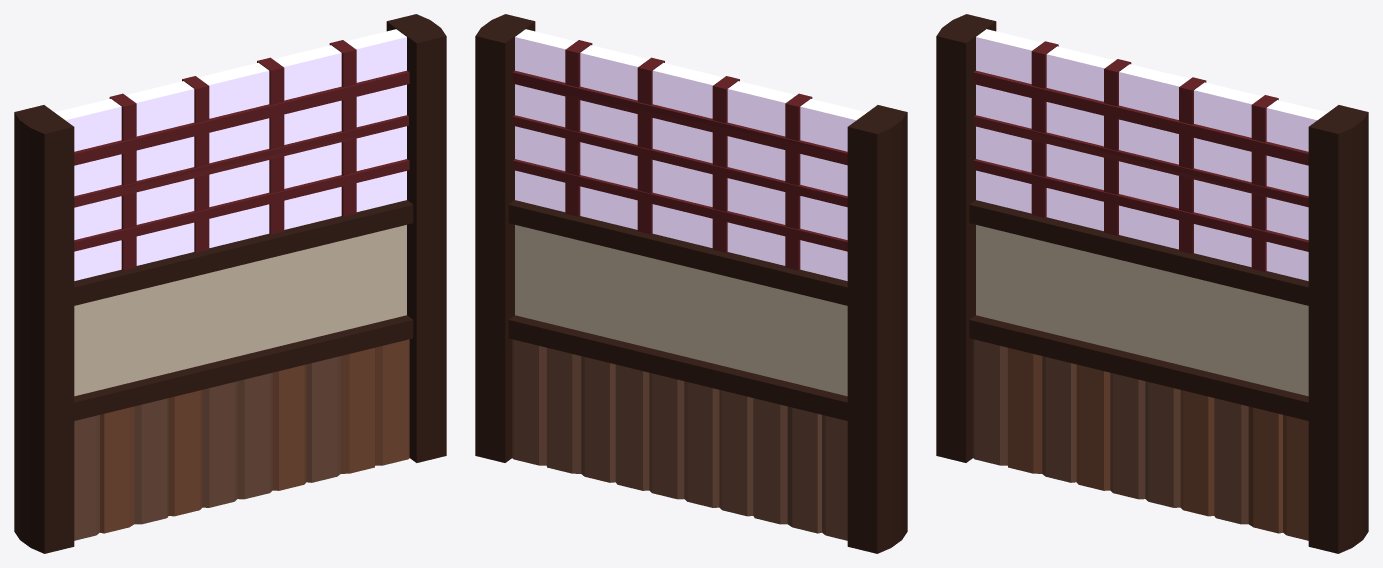
File: BuildingWall_4_1  Asia.fbx
The picture shows the model from 3 angles, left to right: view 1: azimuth 30°, elevation 25°; view 2: azimuth 150°, elevation 25°; view 3: azimuth 330°, elevation 25°; orthographic projection.
Parts seen in each view (by area): view 1: BuildingWall_4_1; view 2: BuildingWall_4_1; view 3: BuildingWall_4_1.
Boxes of the visible parts, bbox=[...] form: BuildingWall_4_1: bbox=[14, 14, 446, 553]; BuildingWall_4_1: bbox=[475, 14, 907, 553]; BuildingWall_4_1: bbox=[936, 14, 1368, 553].
Size of the model in its own units: 2 by 1.96 by 0.254.
